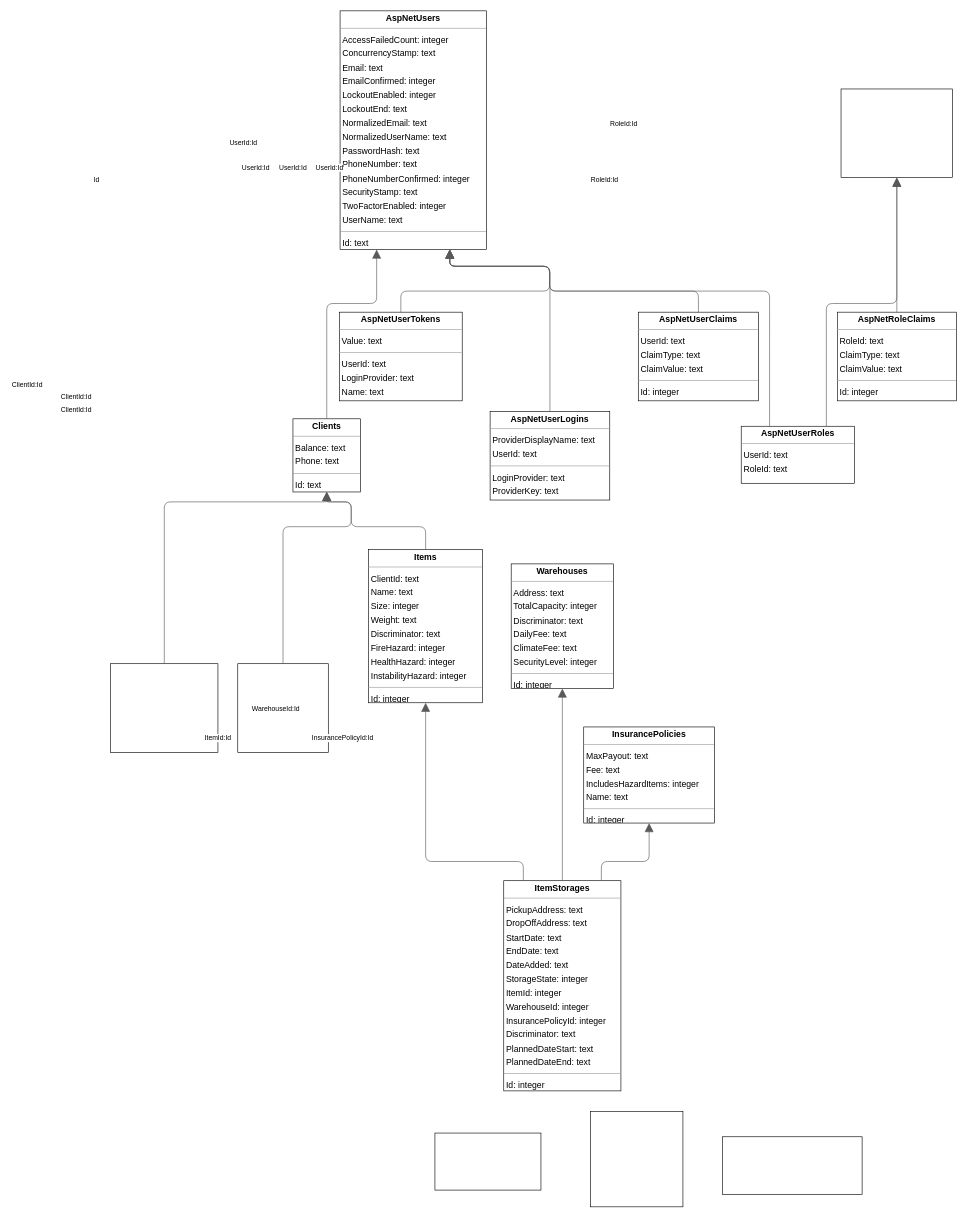
Image size: 967x1218. Some labels were removed from this diagram. Each missing label, with the box of its shape:
__EFMigrationsHistory ProductVersion: text MigrationId: text: (722, 1136, 862, 1194)
AspNetRoles Name: text NormalizedName: text ConcurrencyStamp: text Id: text: (840, 88, 953, 178)
EnterpriseClient Nip: text Regon: text CompanyName: text ClientId: text: (110, 663, 218, 752)
PrivateClient FirstName: text LastName: text Pesel: text ClientId: text: (237, 663, 328, 752)
sqlite_master type: text name: text tbl_name: text rootpage: int sql: text: (590, 1111, 683, 1207)
sqlite_sequence name: unknown seq: unknown: (434, 1132, 541, 1190)
